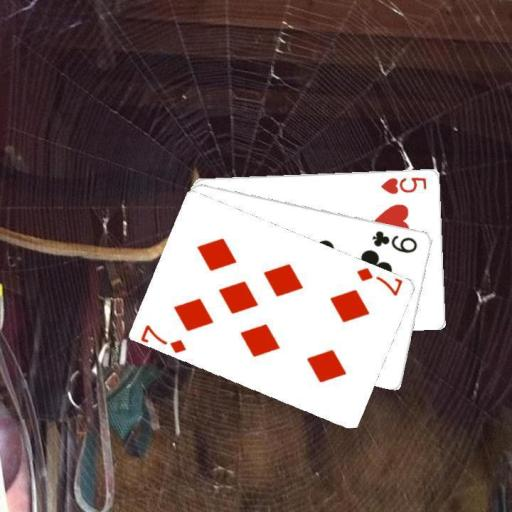card-corner: (353, 264, 404, 297), (138, 322, 188, 354), (369, 227, 420, 254), (378, 173, 429, 195)
